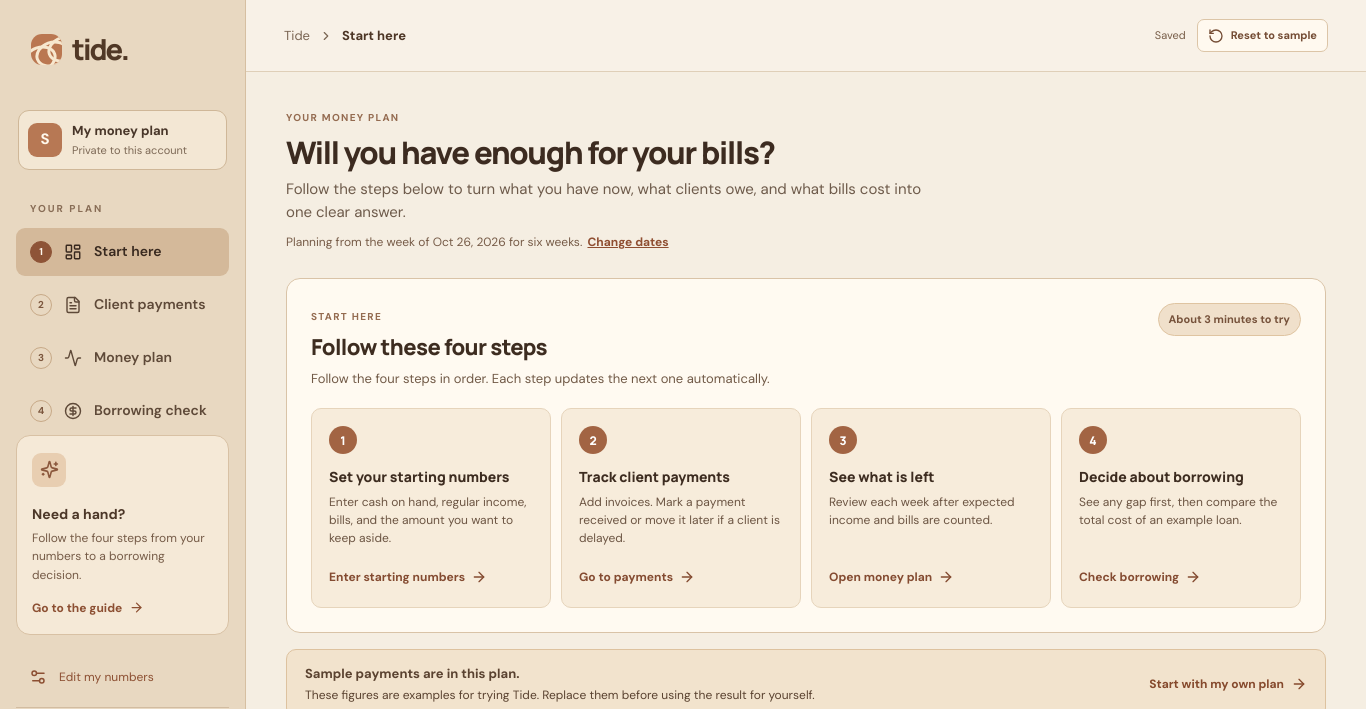
Test: connected dashboard actions › uses the chosen safety amount in the borrowing recommendation
Step 1. Click the button "Edit my numbers" → [122, 677], box [16,657,229,697]
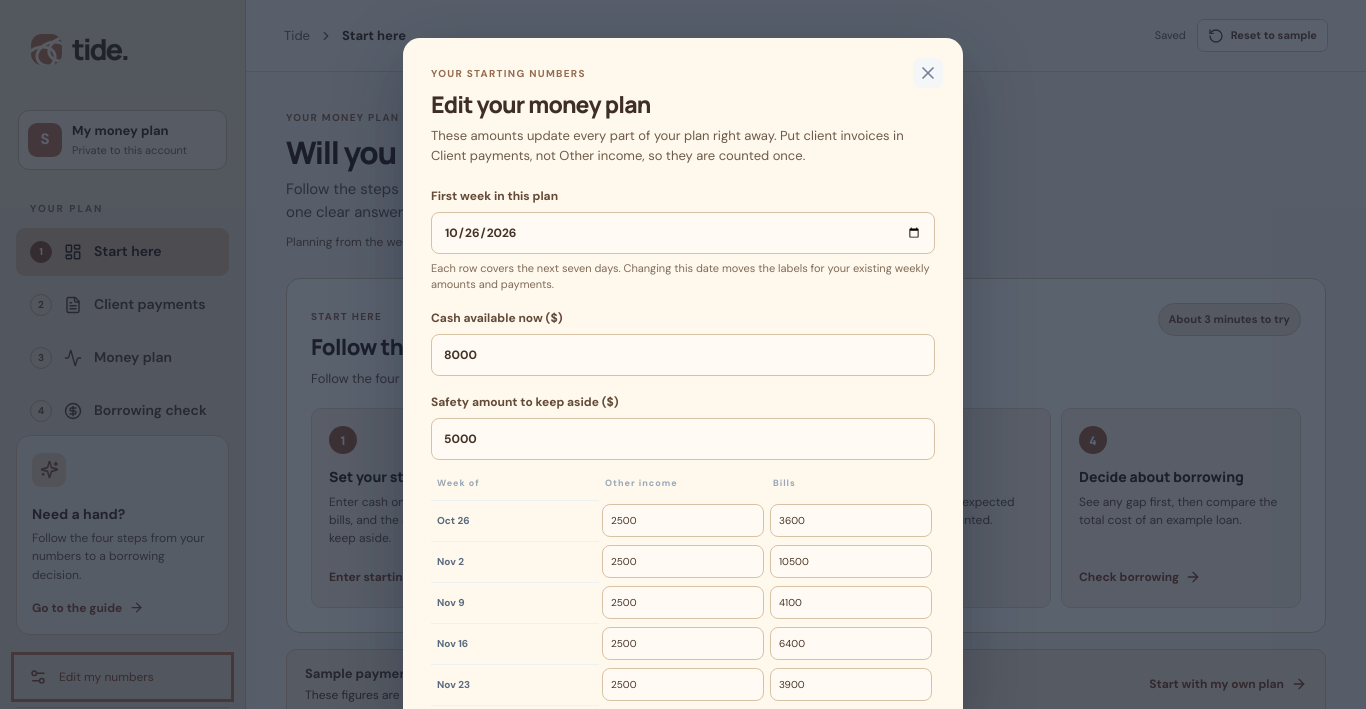
Step 2. Replace the text in the number field labelled "Safety amount to keep aside ($)" with "10000" → [683, 439], box [431,418,935,460]
(page scrolled)
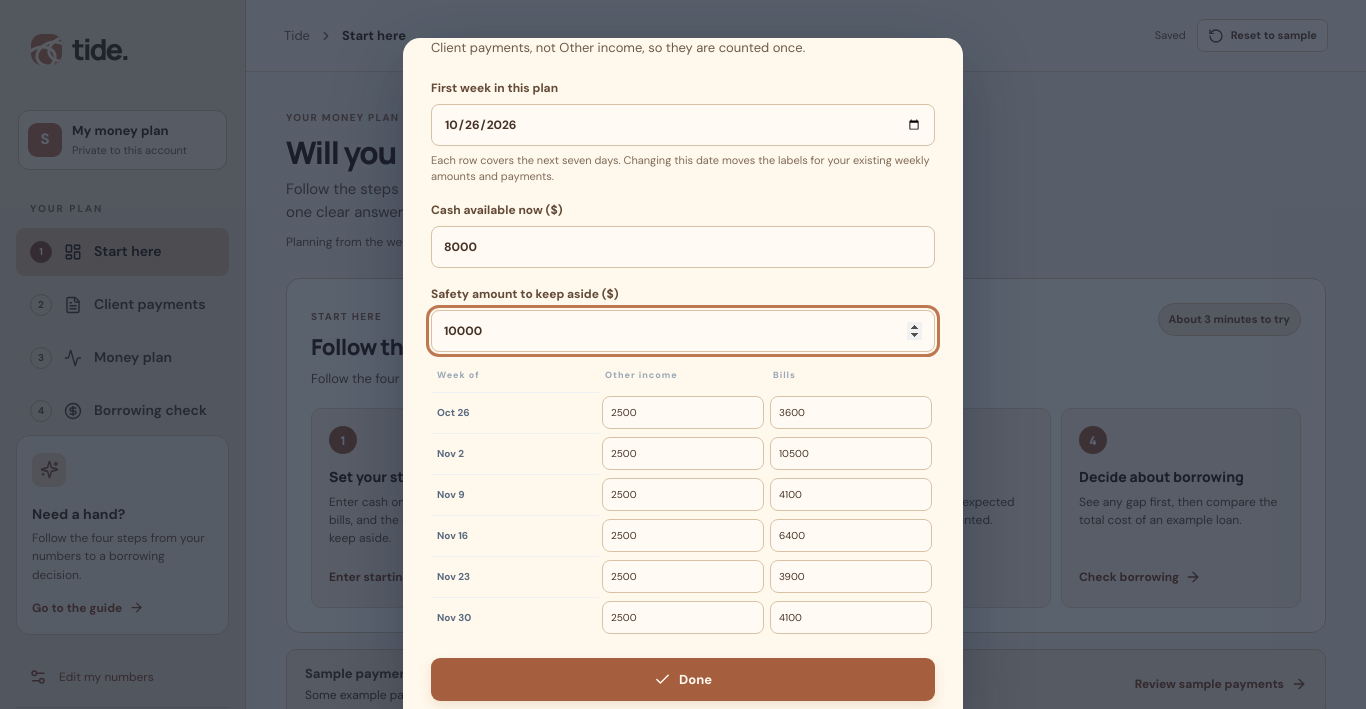
Step 3. Click the button "Done" → [683, 679], box [431,658,935,701]
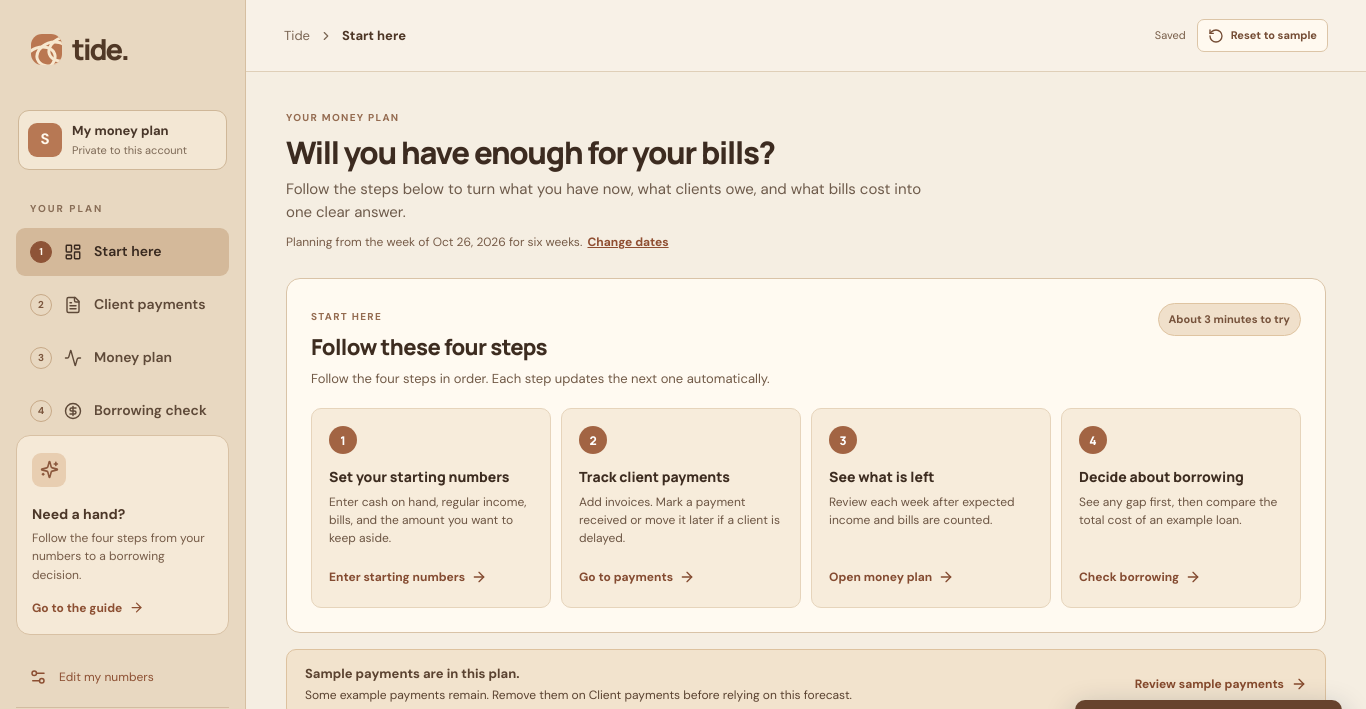
Step 4. Click the button "4 Borrowing check" → [122, 410], box [16,386,229,434]
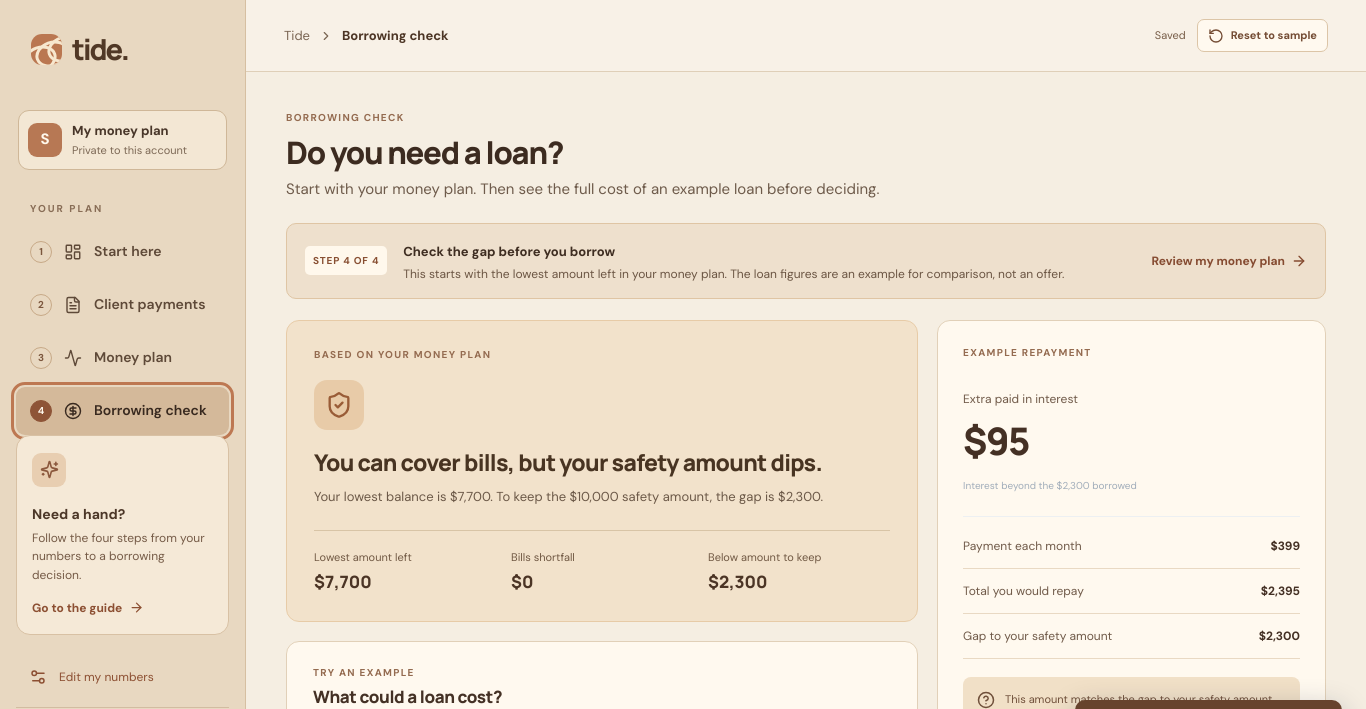
Check: the element with class "decision-stat" shows "$2,300", box [708,570,768,593]
